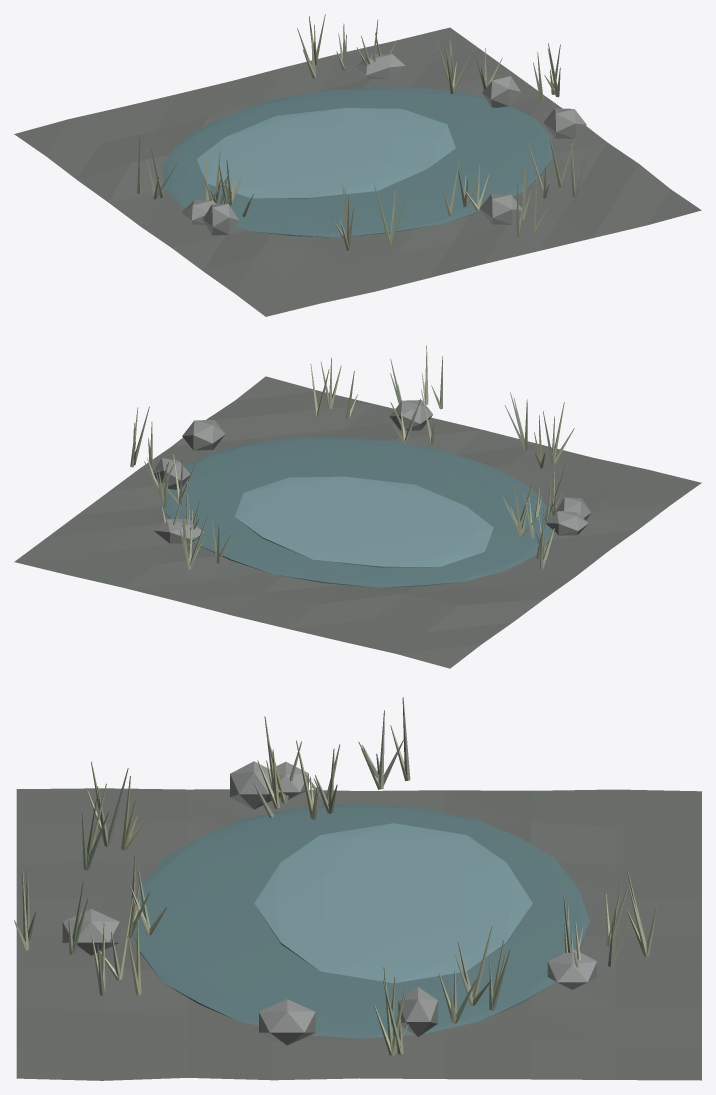
File: tser_blackwater_pool.glb
The picture shows the model from 3 angles, top to bottom: view 1: azimuth 30°, elevation 25°; view 2: azimuth 150°, elevation 25°; view 3: azimuth 270°, elevation 25°; orthographic projection. The views are drawn at different scales.
Visible parts, largest first — view 1: material_00, material_01, material_02, material_03, material_04, material_06, material_05, material_07; view 2: material_00, material_01, material_02, material_03, material_04, material_06, material_05, material_07; view 3: material_00, material_01, material_02, material_03, material_04, material_06, material_05, material_07.
Part boxes in pixels (left/top/right/bottom): material_00: left=14, top=27, right=701, bottom=316; material_01: left=162, top=86, right=552, bottom=237; material_02: left=197, top=108, right=455, bottom=199; material_03: left=181, top=54, right=586, bottom=235; material_04: left=137, top=14, right=575, bottom=250; material_06: left=158, top=16, right=560, bottom=249; material_05: left=215, top=37, right=561, bottom=248; material_07: left=137, top=34, right=587, bottom=238; material_00: left=14, top=376, right=701, bottom=668; material_01: left=162, top=436, right=552, bottom=587; material_02: left=235, top=476, right=493, bottom=567; material_03: left=153, top=400, right=591, bottom=543; material_04: left=147, top=345, right=574, bottom=569; material_06: left=130, top=356, right=555, bottom=569; material_05: left=130, top=369, right=564, bottom=567; material_07: left=154, top=362, right=566, bottom=569; material_00: left=16, top=788, right=701, bottom=1080; material_01: left=133, top=803, right=589, bottom=1038; material_02: left=254, top=823, right=532, bottom=983; material_03: left=62, top=761, right=596, bottom=1045; material_04: left=14, top=725, right=656, bottom=1055; material_06: left=26, top=749, right=646, bottom=1054; material_05: left=91, top=736, right=644, bottom=1055; material_07: left=97, top=697, right=619, bottom=1014.
Size of the model in its own units: 3 by 0.5169 by 3.01.
